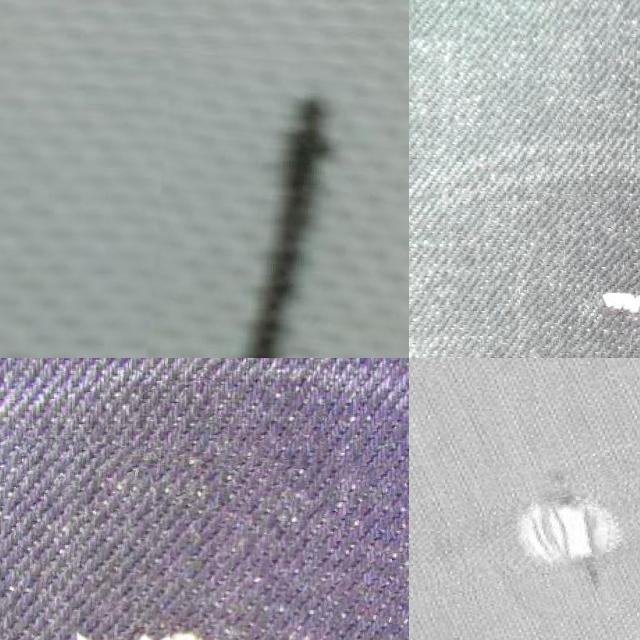other: (482, 464, 640, 612)
stains: (0, 444, 409, 640), (144, 57, 409, 358), (525, 196, 640, 358)
